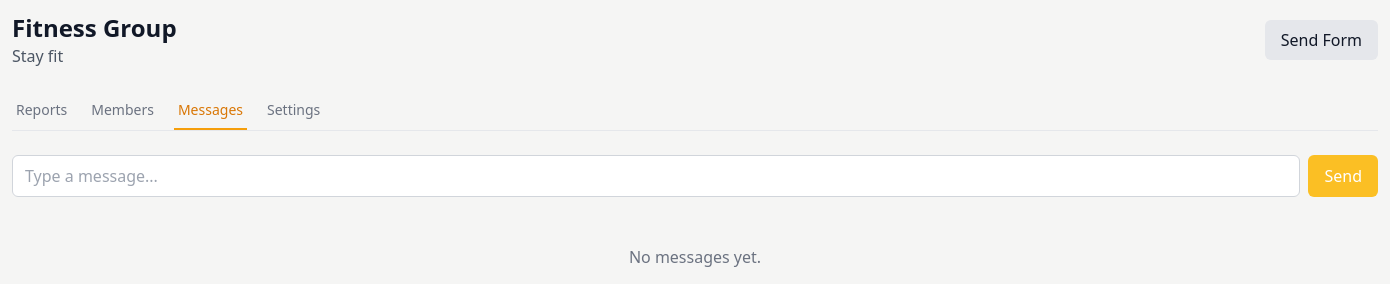
Scenario: GroupDetail › should show form reports when reports tab clicked
Expected: the heading "Fitness Group" is shown, [12,12,177,44]
Click the button "Reports". click: x=42, y=111
box: [12,92,71,130]
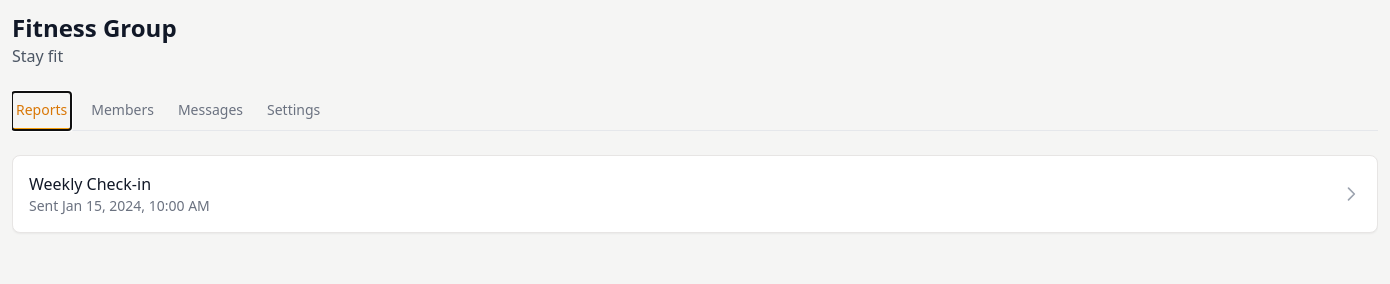
Result: the heading "Weekly Check-in" is shown at [29,173,151,195]
